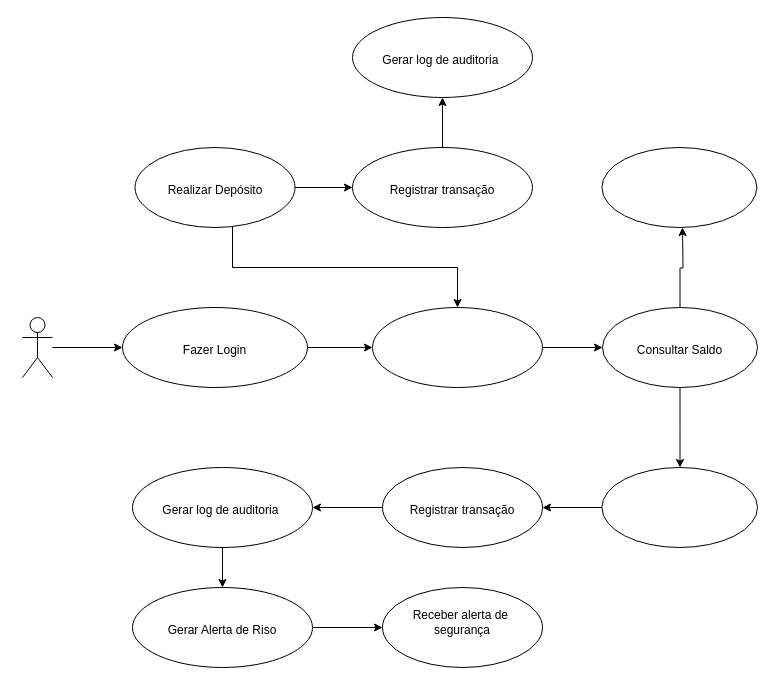
The diagram is 775 pixels wide and 685 high, and some of its shapes have lost their labels. Here are the shapes that lost their labels. From the top down, the centre of each, then its label:
At [679,187]: "Consultar Histórico de Transações".
At [37,347]: "Usuário".
At [457,347]: "Autenticar com MFA".
At [679,507]: "Realizar Saque".
